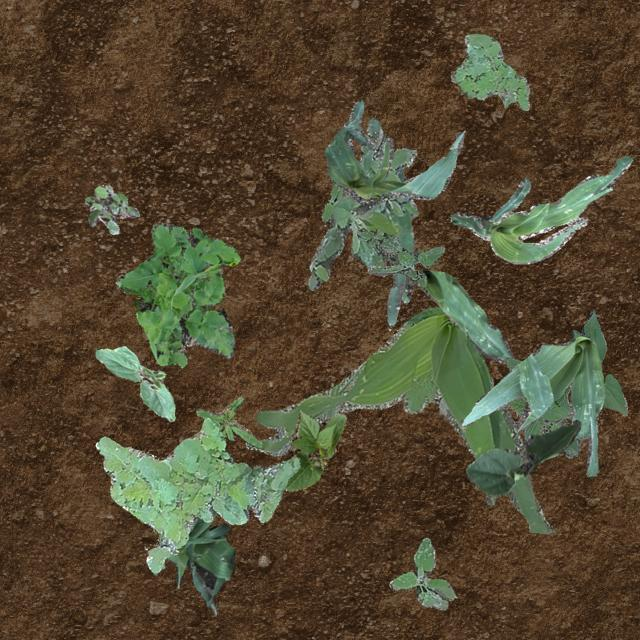crop: (459, 334, 604, 476), (449, 156, 632, 262), (504, 309, 626, 442), (324, 100, 464, 202), (366, 116, 418, 324), (401, 270, 514, 362), (464, 418, 580, 496), (164, 506, 234, 614), (94, 346, 174, 420), (284, 410, 346, 490)
weed: (244, 306, 554, 534), (94, 417, 300, 572), (114, 220, 240, 366), (306, 128, 416, 290), (451, 34, 528, 110), (356, 226, 444, 286), (388, 536, 456, 608), (190, 394, 262, 446), (84, 184, 138, 233), (536, 414, 580, 456)
